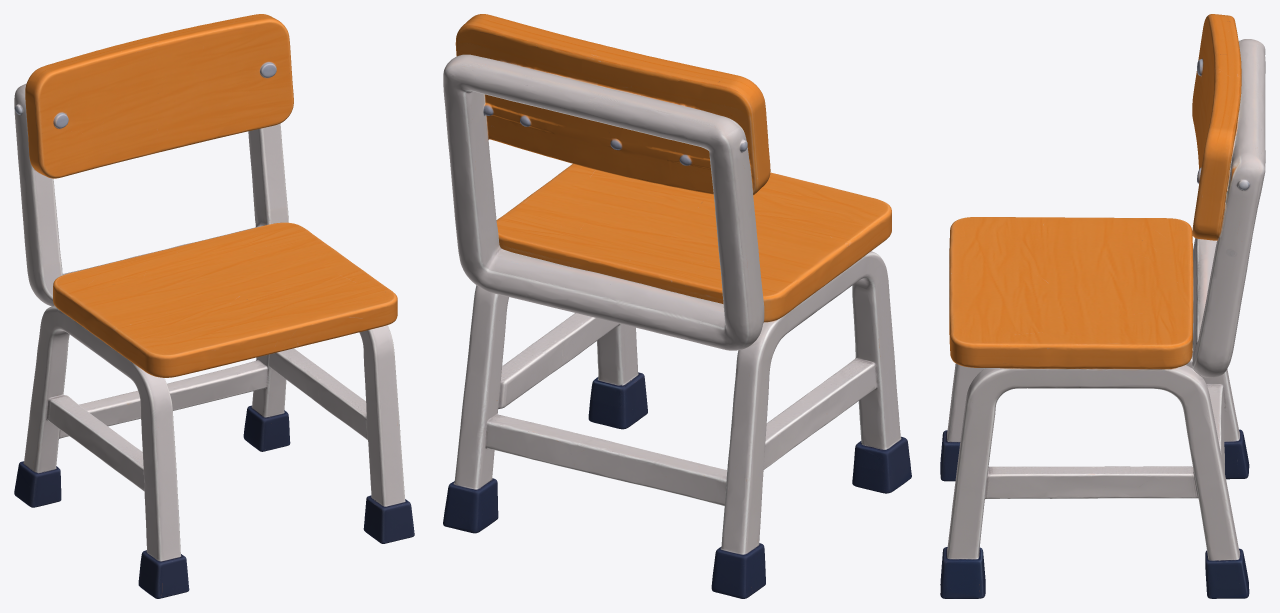
Rendered from Meshy_AI_Classroom_Chair_1019033224_texture.fbx.
3 renders of one model, left to right at view 1: azimuth 30°, elevation 25°; view 2: azimuth 150°, elevation 25°; view 3: azimuth 270°, elevation 25°, orthographic. The views are drawn at different scales.
Visible parts, largest first — view 1: Mesh_0; view 2: Mesh_0; view 3: Mesh_0.
Part boxes in pixels (left/top/right/bottom): Mesh_0: left=14, top=14, right=414, bottom=598; Mesh_0: left=443, top=14, right=911, bottom=598; Mesh_0: left=940, top=14, right=1265, bottom=598.
Size of the model in its own units: 120 by 190 by 122.
Materials: 1 (1 with a texture image).
